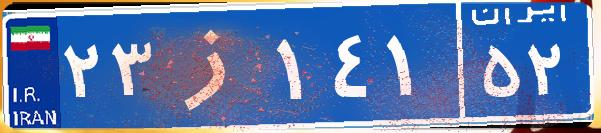1: (385, 28, 445, 110), (273, 28, 330, 110)
2: (57, 26, 110, 107), (525, 38, 570, 115)
3: (110, 28, 158, 105)
4: (330, 28, 385, 110)
5: (475, 38, 525, 113)
ز: (158, 15, 273, 115)
